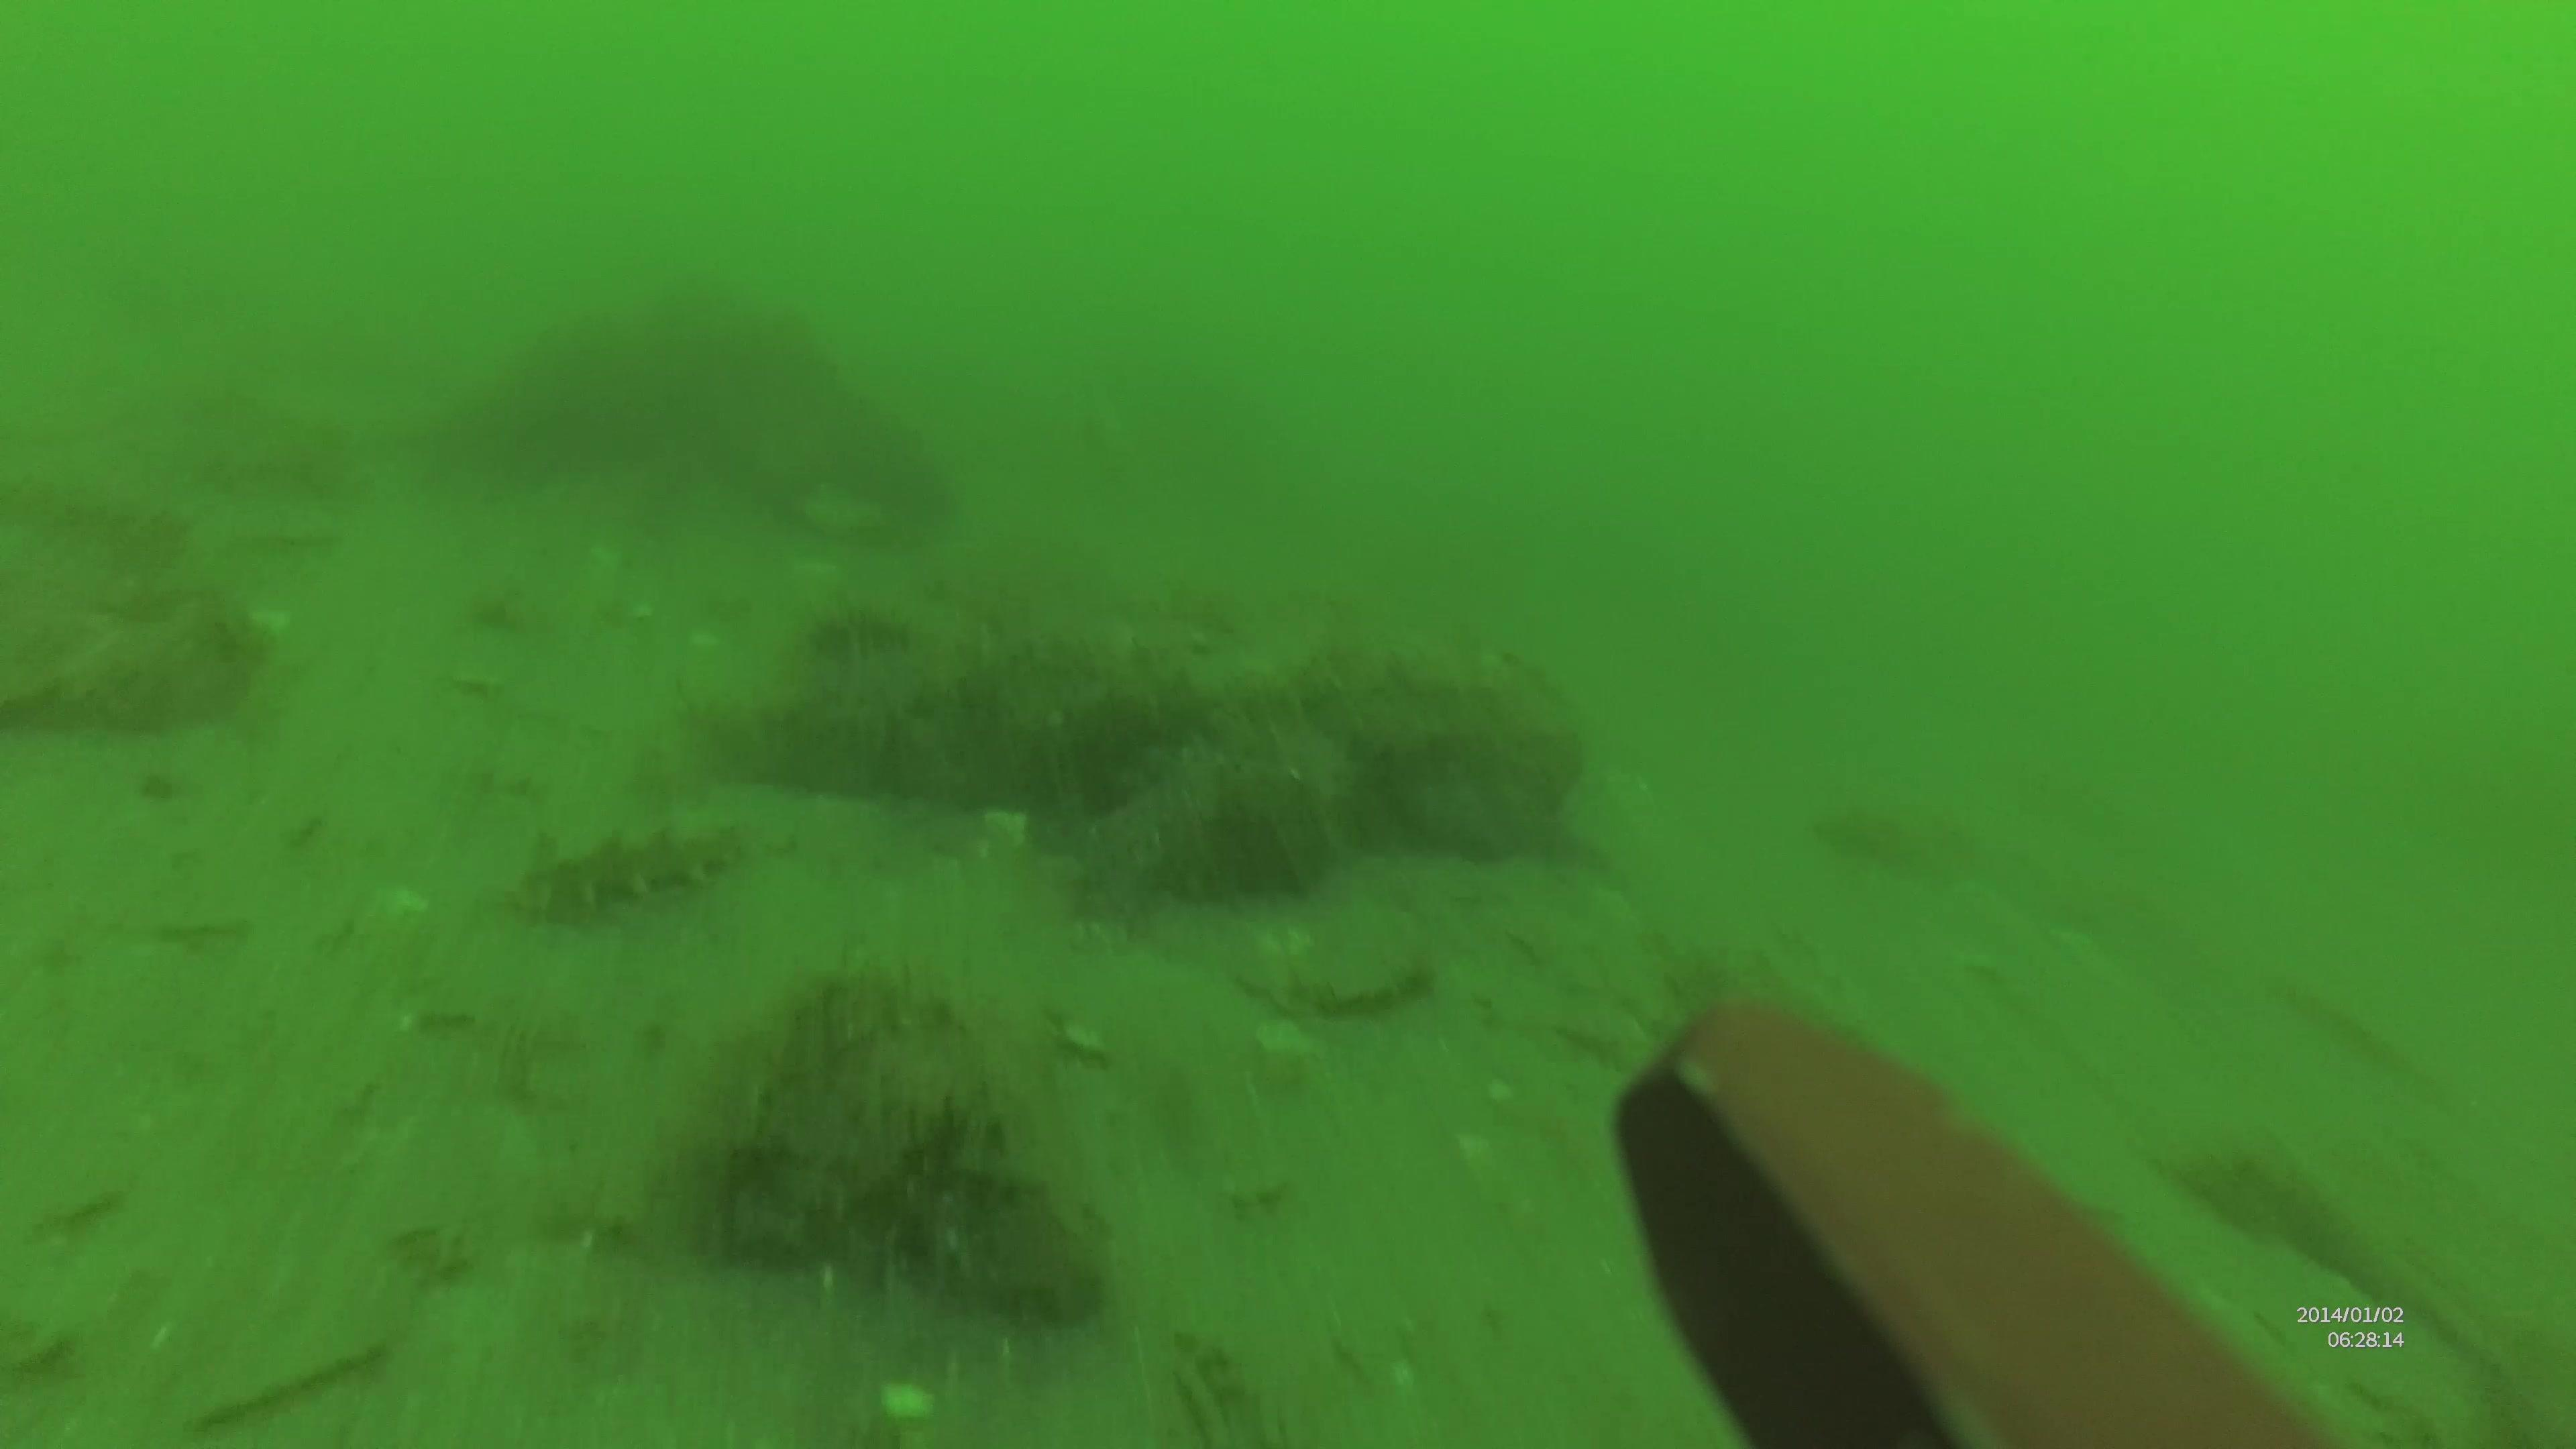holothurian: (504, 817, 747, 934)
